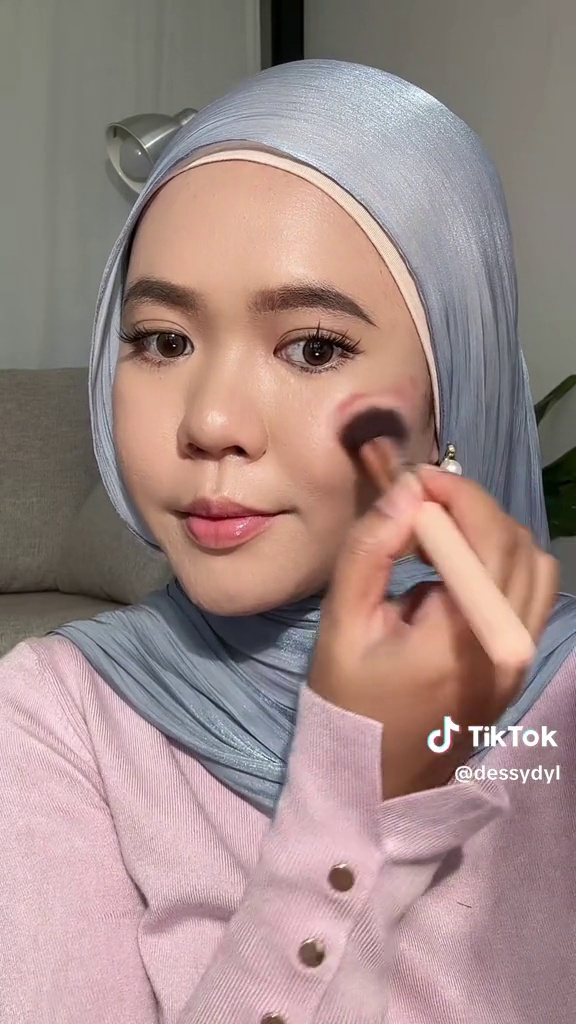train' :'yolo_data/train/images',: (314, 389, 521, 667)
